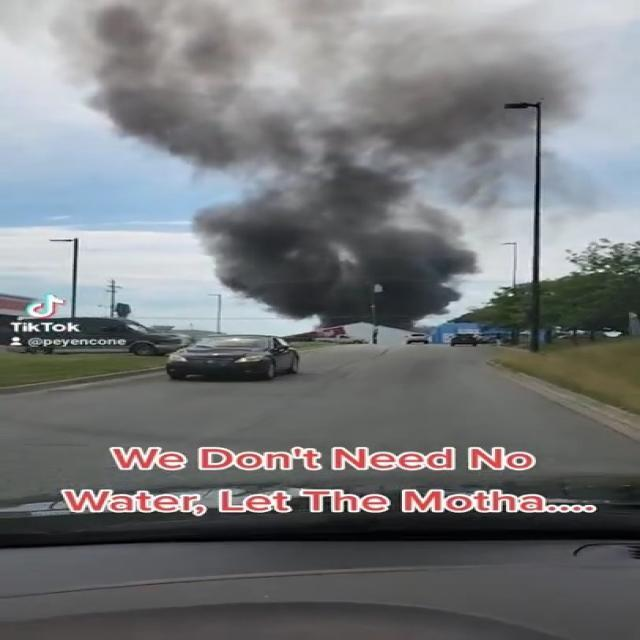Smoke: (186, 193, 502, 331)
